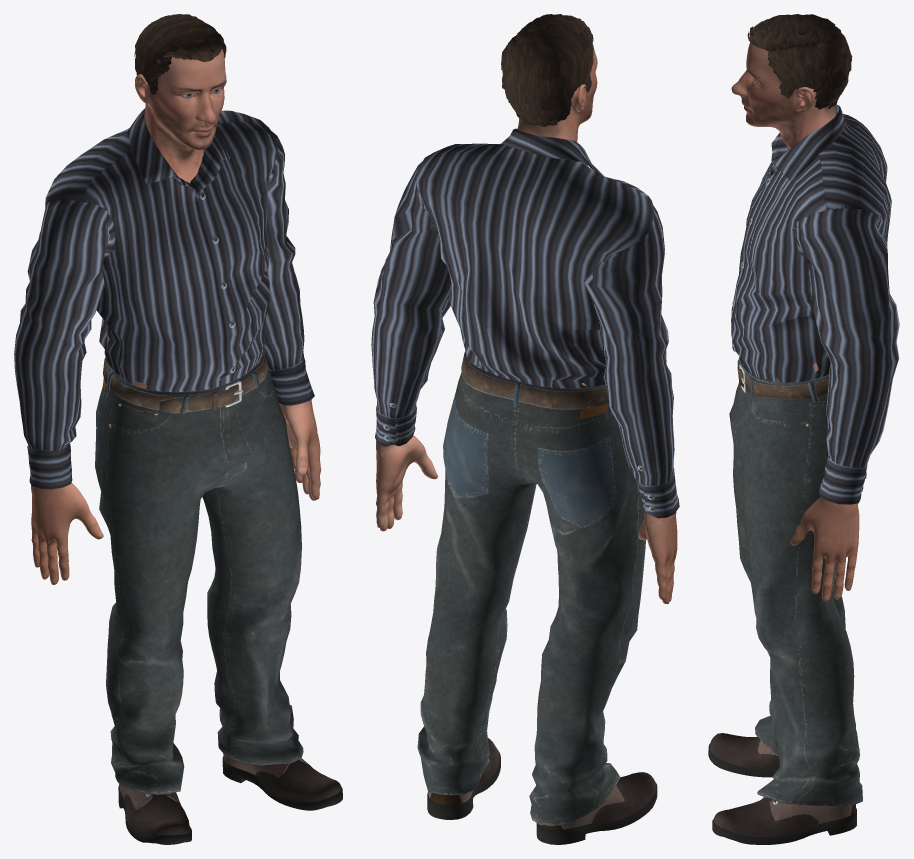
Rendered from human_male.obj.
3 views of the same model, side by side, from view 1: azimuth 30°, elevation 25°; view 2: azimuth 150°, elevation 25°; view 3: azimuth 270°, elevation 25° (orthographic). The views are drawn at different scales.
Visible parts, largest first — view 1: Tops, Bottoms, Body, Shoes, Hair; view 2: Tops, Bottoms, Hair, Body, Shoes; view 3: Tops, Bottoms, Body, Shoes, Hair.
Boxes of the visible parts, left/top/right/bottom form: Tops: left=14, top=108, right=314, bottom=489; Bottoms: left=95, top=349, right=303, bottom=794; Body: left=31, top=49, right=321, bottom=584; Shoes: left=118, top=754, right=342, bottom=844; Hair: left=134, top=14, right=226, bottom=94; Tops: left=371, top=128, right=679, bottom=518; Bottoms: left=417, top=351, right=645, bottom=825; Hair: left=501, top=14, right=593, bottom=126; Body: left=376, top=43, right=677, bottom=604; Shoes: left=427, top=738, right=657, bottom=844; Tops: left=731, top=104, right=899, bottom=504; Bottoms: left=729, top=356, right=862, bottom=806; Body: left=731, top=42, right=859, bottom=601; Shoes: left=708, top=733, right=856, bottom=844; Hair: left=747, top=14, right=852, bottom=109.
Bounding box in the file's own units: 684 × 1764 × 398.
5 materials, 5 textured.
